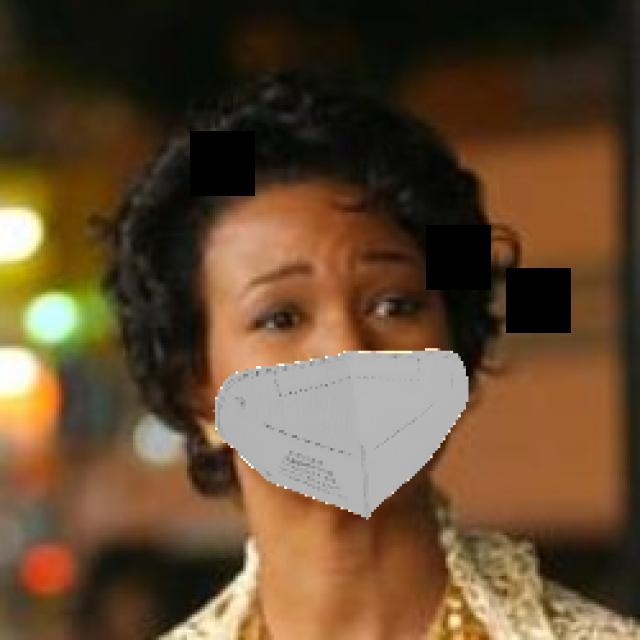kn95: (196, 158, 465, 522)
